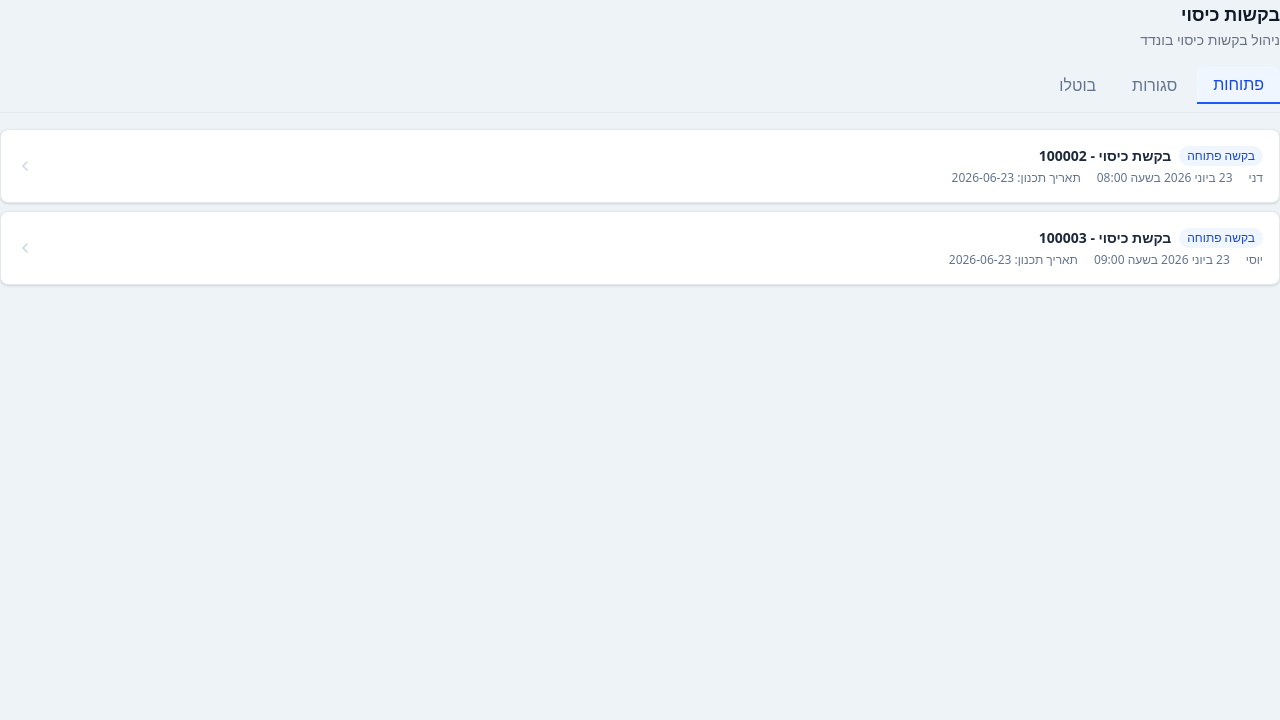
it: BondedRequestsList › close form defaults fulfilledQty to requestedQty
Click the text "בקשת כיסוי - 100002".
click(1105, 156)  # box 1039,146 -> 1171,166
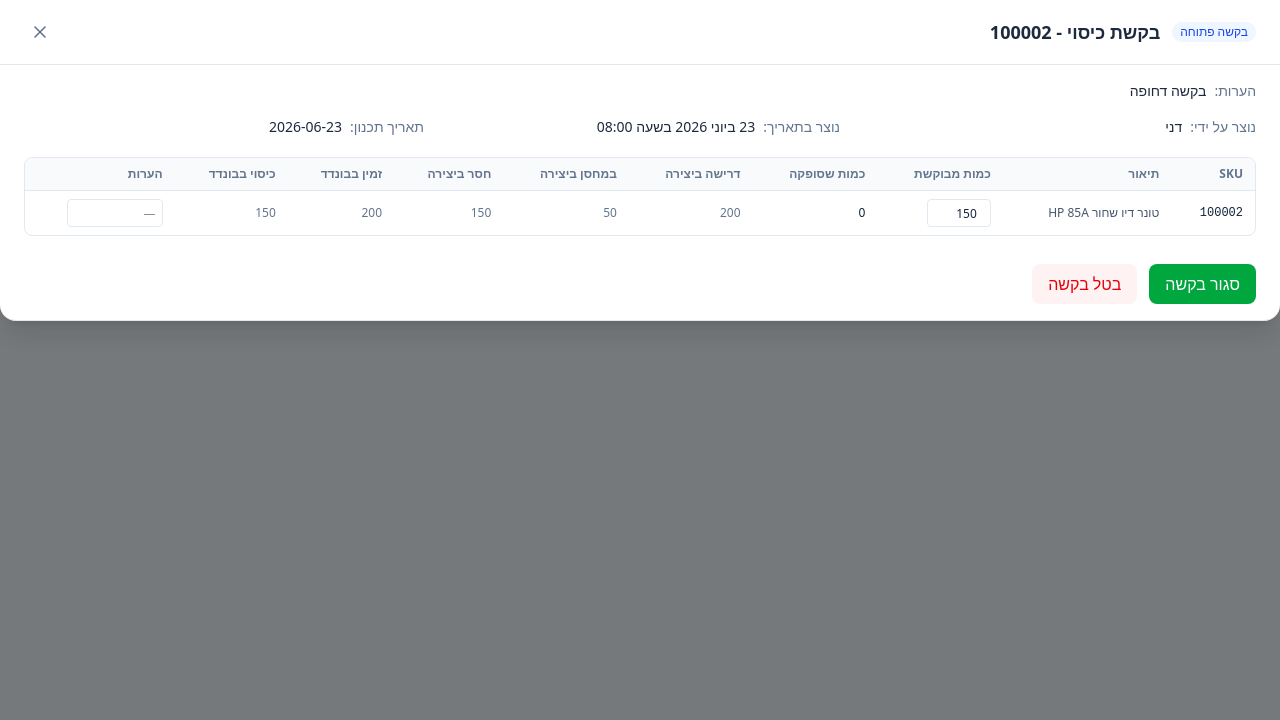
Now the button "סגור בקשה" is shown
Click the button "סגור בקשה".
click(1203, 284)  # box 1149,264 -> 1256,304
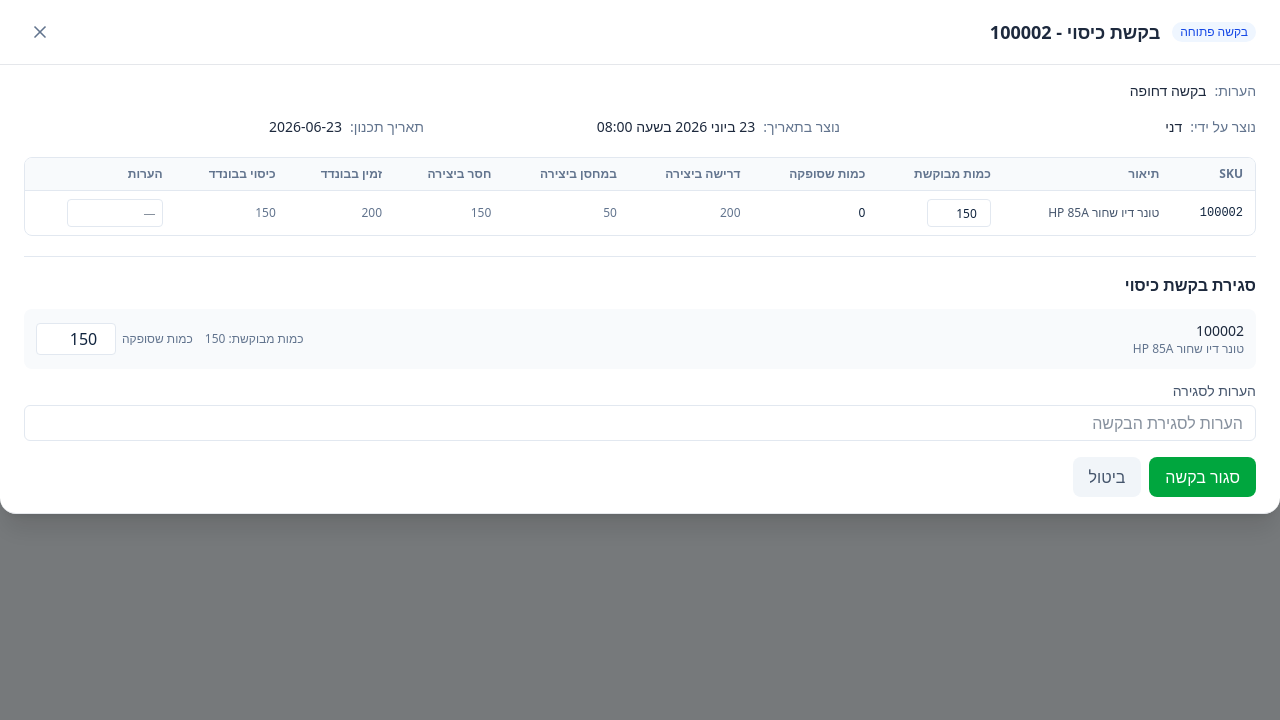
Now the heading "סגירת בקשת כיסוי" is shown, box 1125,274 -> 1256,296
